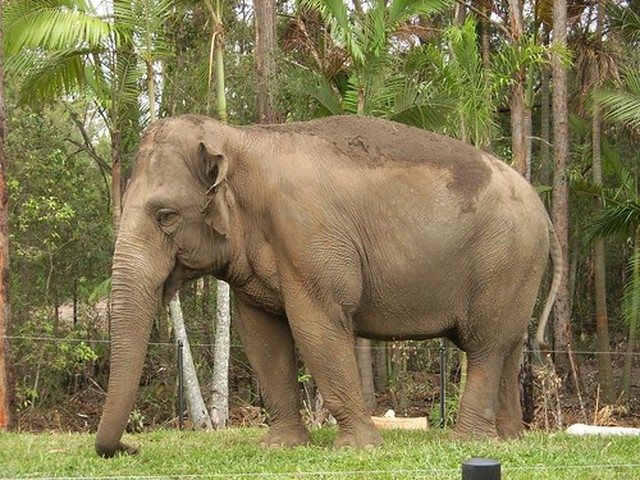Elephant: (91, 110, 566, 453)
